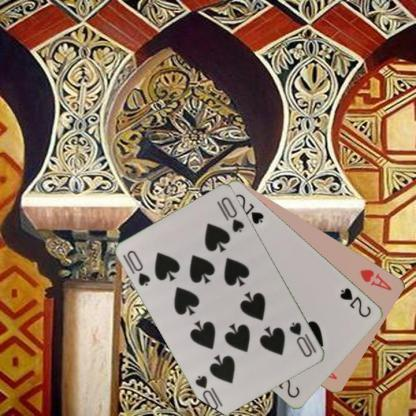10s: (124, 247, 153, 288), (287, 319, 314, 359)
2s: (338, 285, 372, 319)
Ah: (357, 266, 394, 292)
